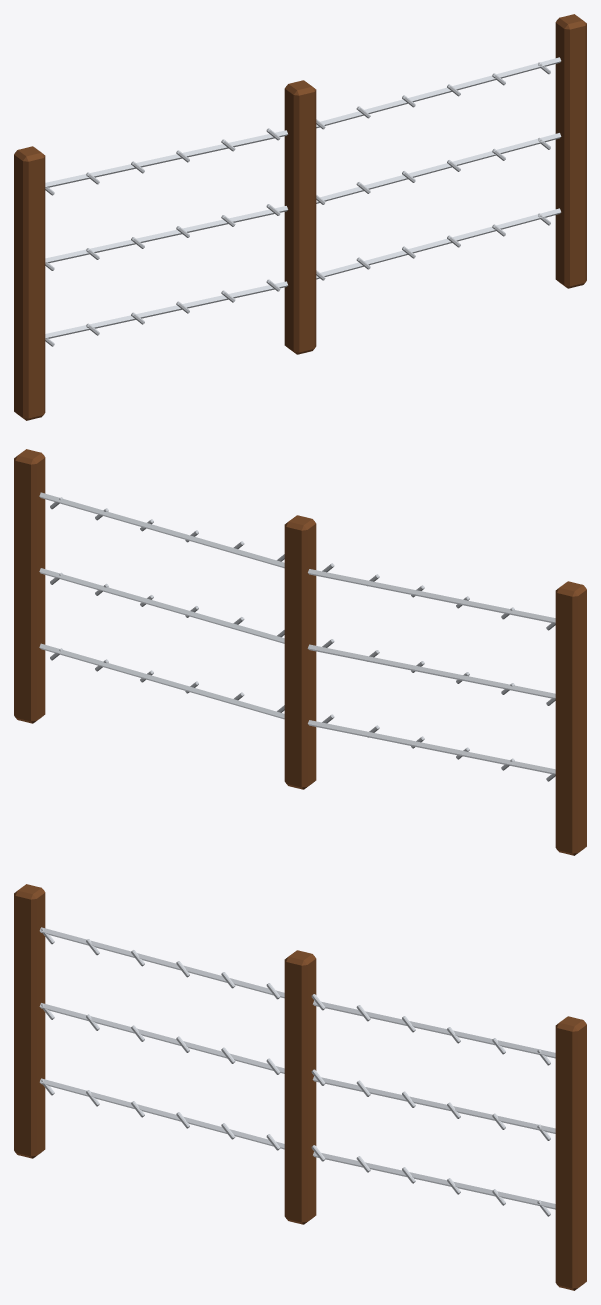
The model's file is BarbedWireFence.fbx.
3 views of the same model, one above another, from view 1: azimuth 30°, elevation 25°; view 2: azimuth 150°, elevation 25°; view 3: azimuth 330°, elevation 25° (orthographic).
Visible parts, largest first — view 1: BarbedWireFence; view 2: BarbedWireFence; view 3: BarbedWireFence.
Part boxes in pixels (x1,y1,x2,y2): BarbedWireFence: [14, 14, 586, 420]; BarbedWireFence: [14, 449, 586, 855]; BarbedWireFence: [14, 884, 586, 1290].
Size of the model in its own units: 6.25 by 2.8 by 0.25.
1 material, 1 textured.
